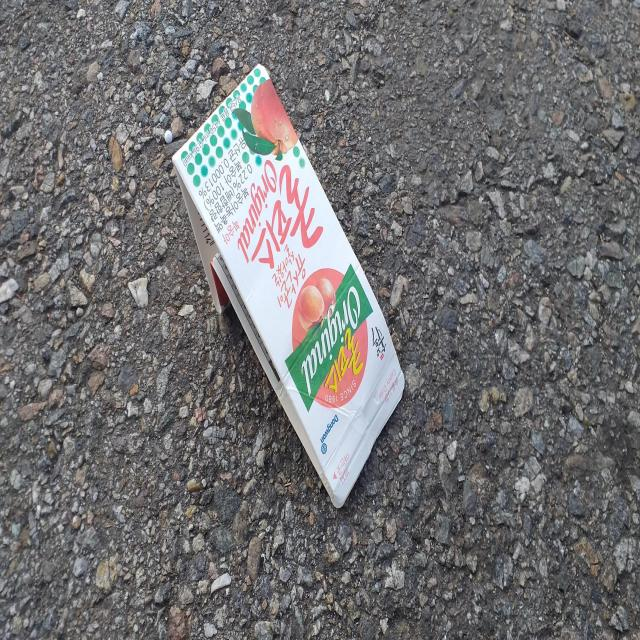paperpack: (174, 65, 405, 508)
